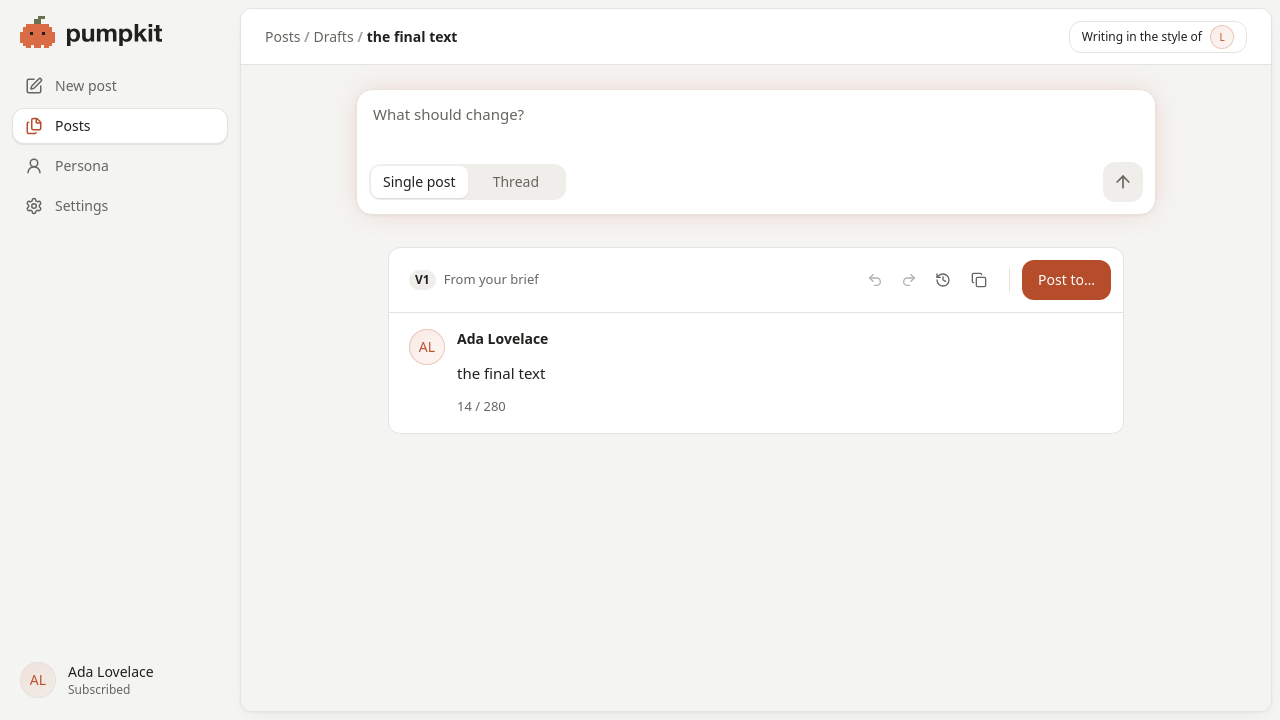
Test: The signed-in shell › New post › opens an empty /new from a Post with the cursor in the Brief
Expected: the element named "Text" is shown, [388, 247, 1124, 434]
Step 1. Click the link "New post" → (71, 86), box [25, 76, 117, 95]
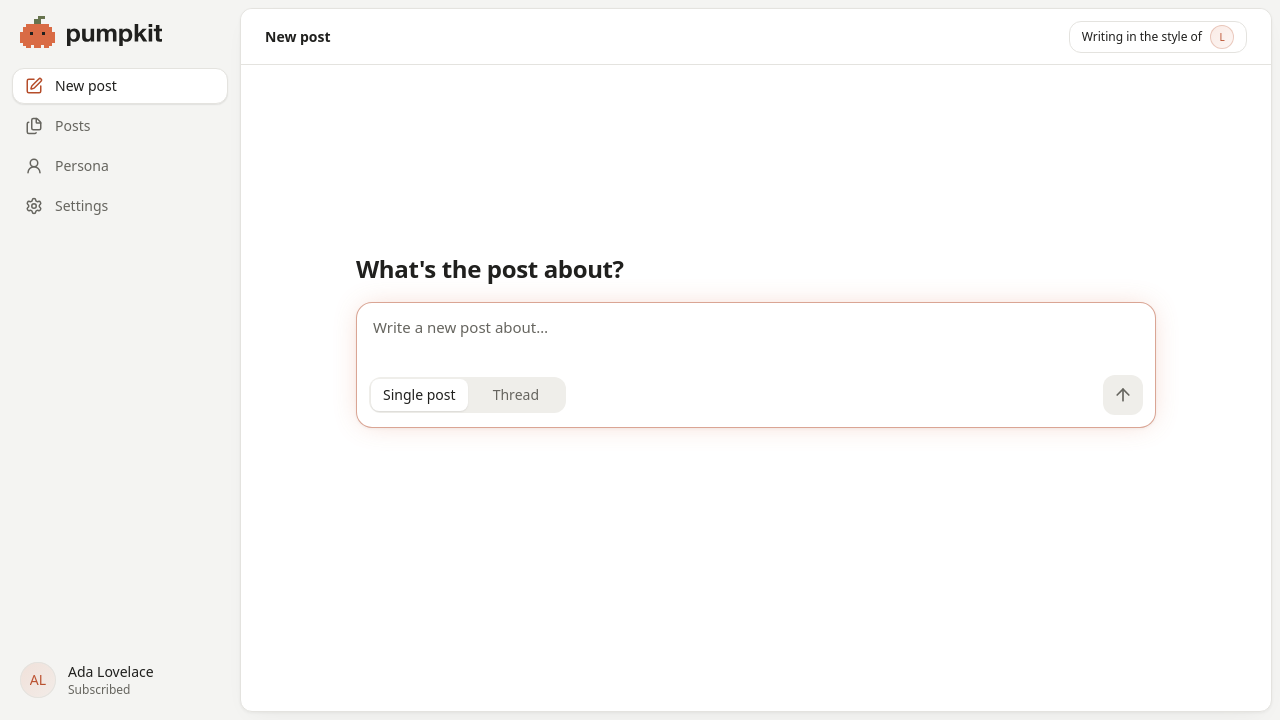
Expected: the text box named "Brief" is empty, [357, 303, 1155, 363]
Expected: the text box named "Brief" is shown, [357, 303, 1155, 363]
Expected: the text "text" is gone
